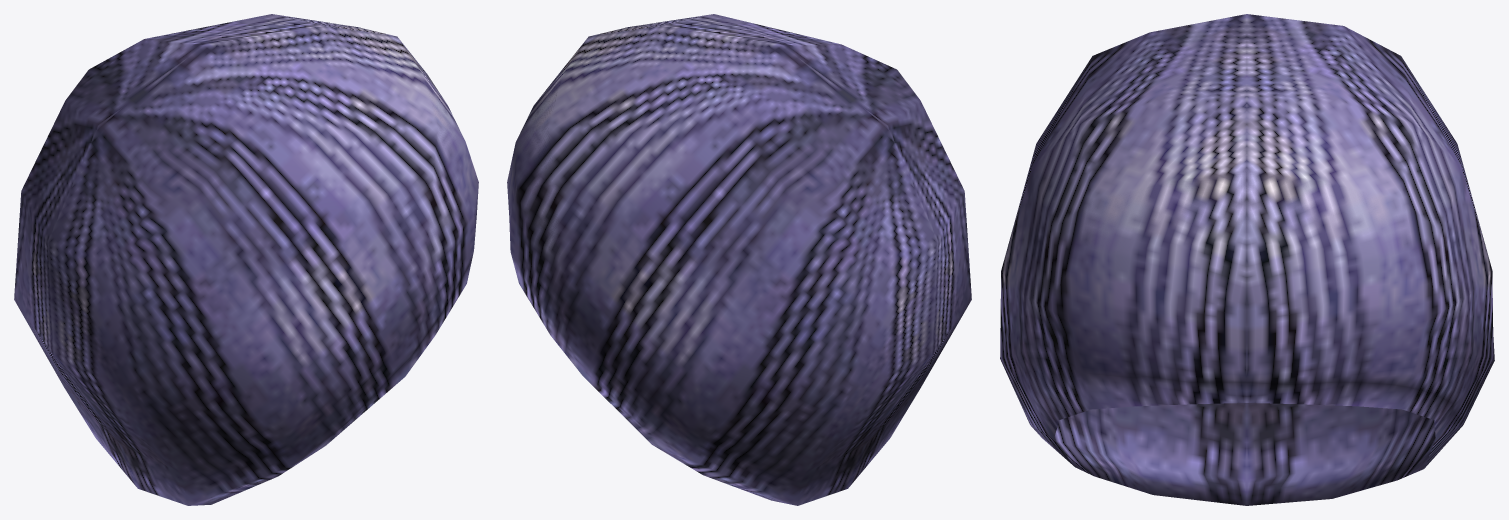
Rendered from hat_0400037.FBX.
3 views of the same model, side by side, from view 1: azimuth 30°, elevation 25°; view 2: azimuth 150°, elevation 25°; view 3: azimuth 270°, elevation 25° (orthographic). The views are drawn at different scales.
Parts seen in each view (by area): view 1: hat_0400037; view 2: hat_0400037; view 3: hat_0400037.
Boxes of the visible parts, <box> form: hat_0400037: <box>14,14,478,505</box>; hat_0400037: <box>507,14,971,505</box>; hat_0400037: <box>1000,14,1494,505</box>.
Bounding box in the file's own units: 27.11 × 28.35 × 24.67.
